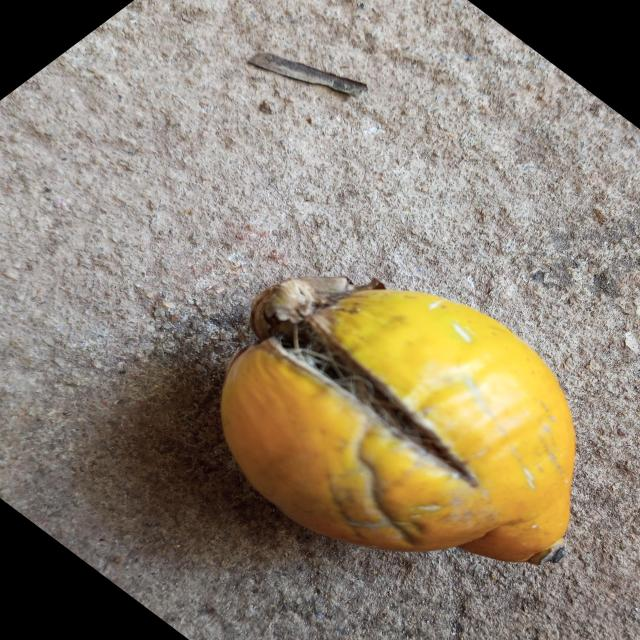damaged: (221, 277, 575, 564)
